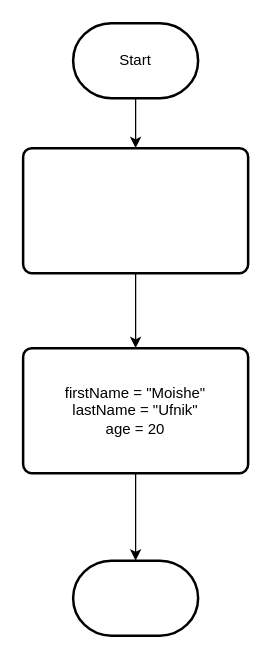
Some shapes in this 270 by 658 pixel diagram are drawn without their labels. The centre of each missing label's shape, as x and y in pixels:
firstName, lastName, age: (x=135, y=210)
Stop: (x=135, y=597)
